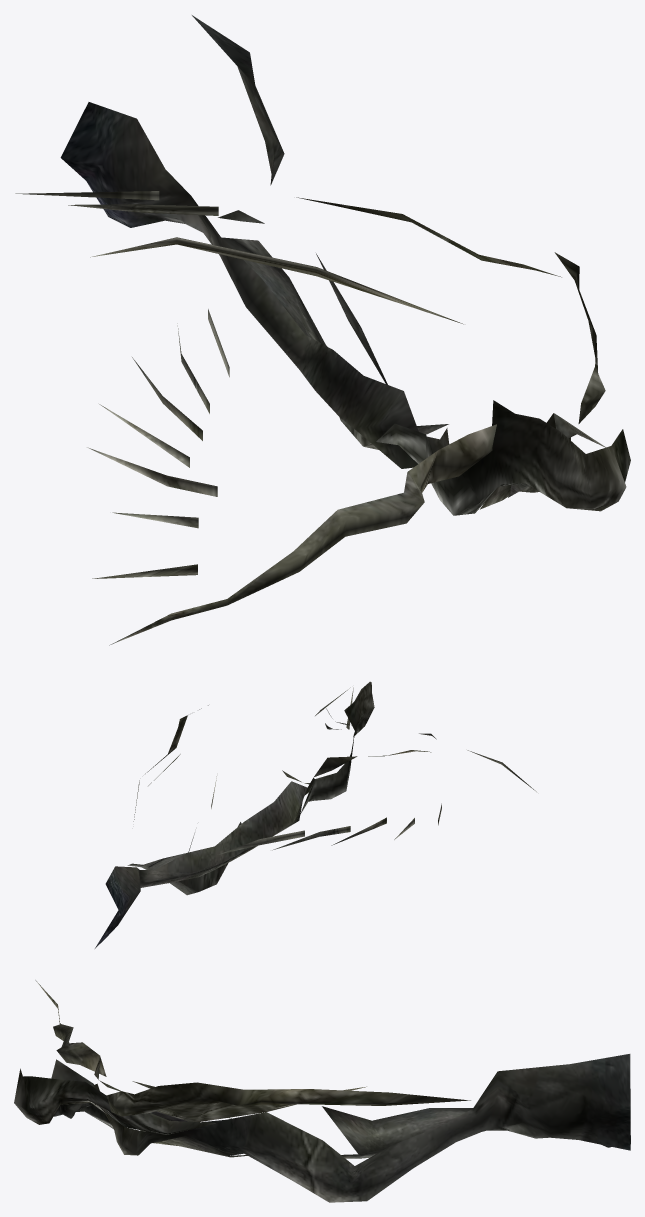
3 views of the same model, one above another, from view 1: azimuth 30°, elevation 25°; view 2: azimuth 150°, elevation 25°; view 3: azimuth 270°, elevation 25° (orthographic). The views are drawn at different scales.
Parts seen in each view (by area): view 1: model_object32; view 2: model_object32; view 3: model_object32.
Boxes of the visible parts, <box> form: model_object32: <box>15,15,630,645</box>; model_object32: <box>95,681,536,948</box>; model_object32: <box>14,980,630,1202</box>.
Bounding box in the file's own units: 2.42 × 0.9304 × 3.23.
1 material, 1 textured.
